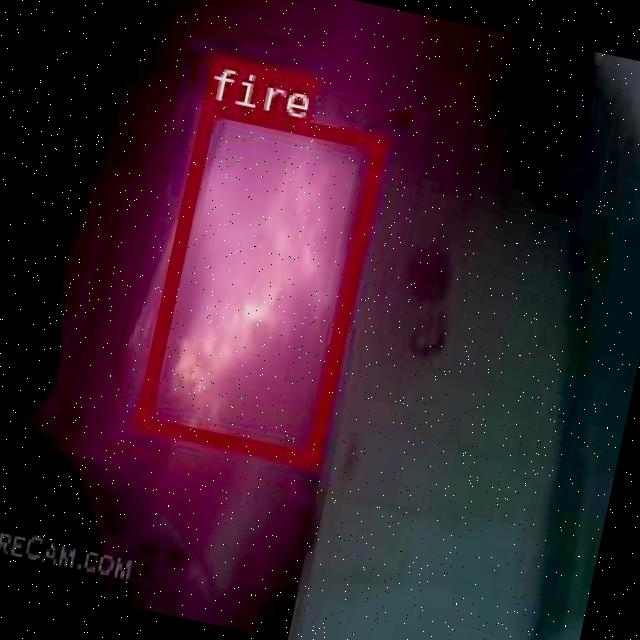fire: (132, 97, 384, 464)
